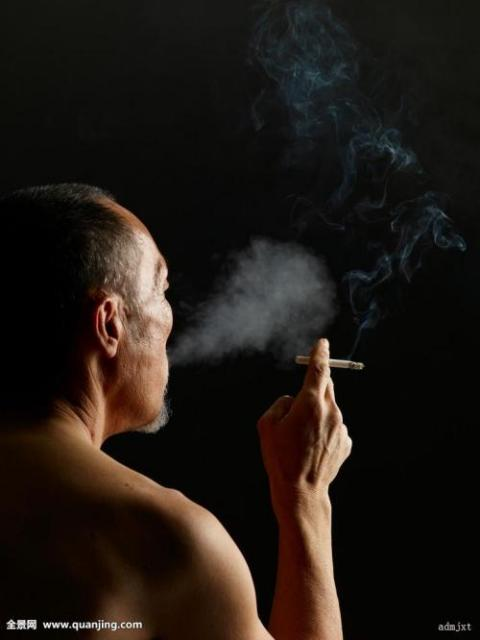Cigarette: (295, 352, 369, 376)
